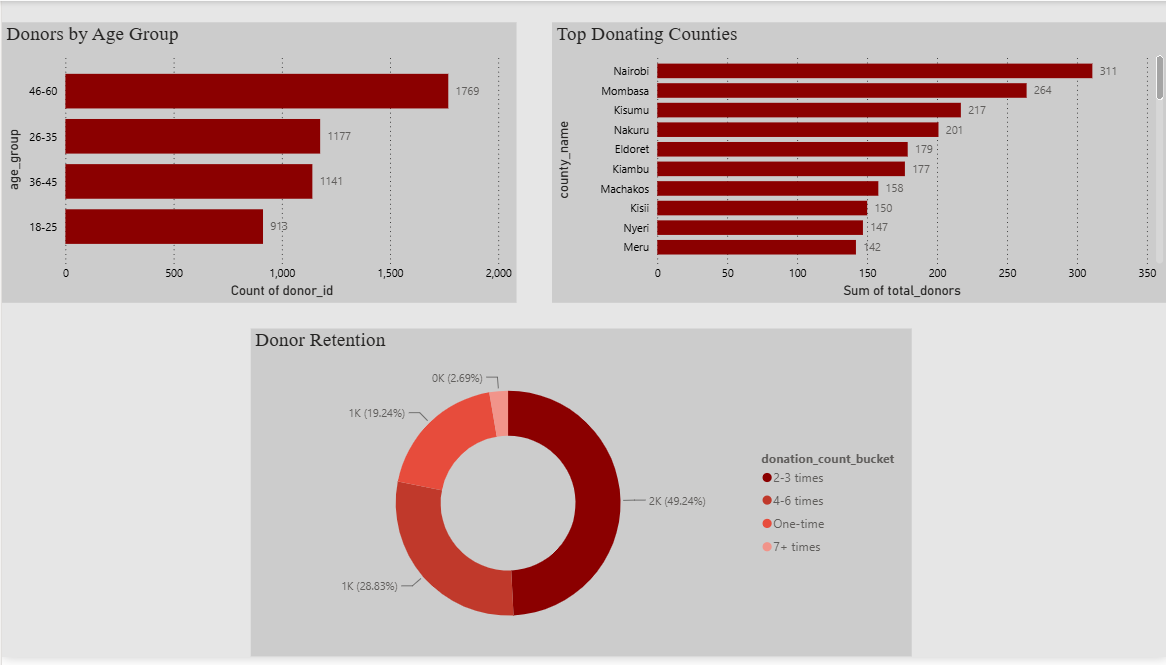

This screenshot's page, from the dashboard's own definition file:
{"tool":"powerbi","page":{"name":"Donor Analytics","canvas":[1280,720],"ordinal":2},"visuals":[{"type":"donutChart","title":"Donor Retention","fields":{"Category":["public vw_donor_retention.donation_count_bucket"],"Y":["Sum(public vw_donor_retention.num_donors)"]},"box":[273.1,359.8,725.4,359.8],"z":0},{"type":"clusteredBarChart","title":"Donors by Age Group","fields":{"Category":["public dim_donors.age_group"],"Y":["CountNonNull(public dim_donors.donor_id)"]},"box":[0,23.1,565,307.8],"z":1000},{"type":"clusteredBarChart","title":"Top Donating Counties","fields":{"Category":["public vw_donor_density.county_name"],"Y":["Sum(public vw_donor_density.total_donors)"]},"box":[604,23.1,676.3,307.8],"z":2000}]}

Visuals, with their boxes in screenshot pixels (x1, y1, x2, y2), scaled from the page's 1280x720 canvas onto the 1166x665 screenshot:
"Donor Retention" donutChart: select_region(249, 332, 910, 664)
"Donors by Age Group" clusteredBarChart: select_region(0, 21, 515, 306)
"Top Donating Counties" clusteredBarChart: select_region(550, 21, 1165, 306)
